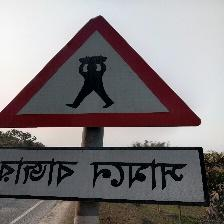Market-in-front: (0, 15, 199, 221)
